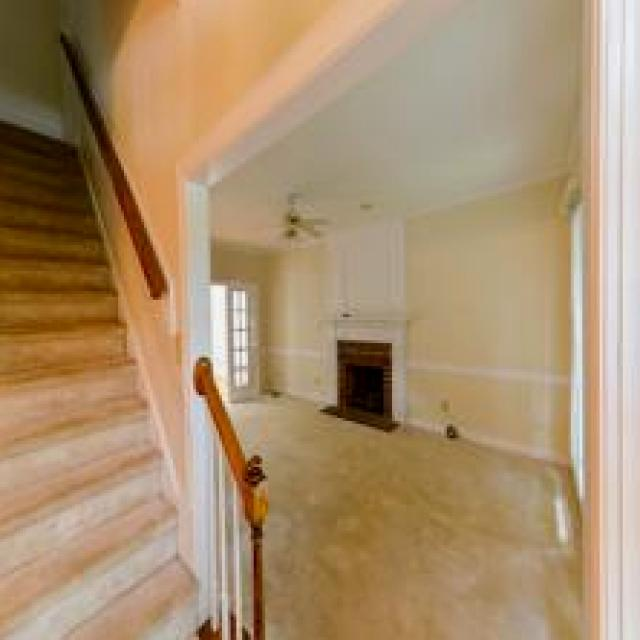upstair: (1, 347, 197, 640)
